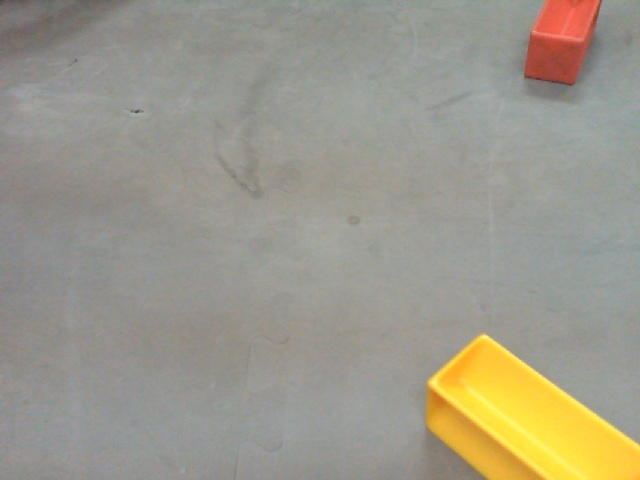RedSample: (524, 1, 599, 86)
YellowSample: (426, 330, 640, 475)
